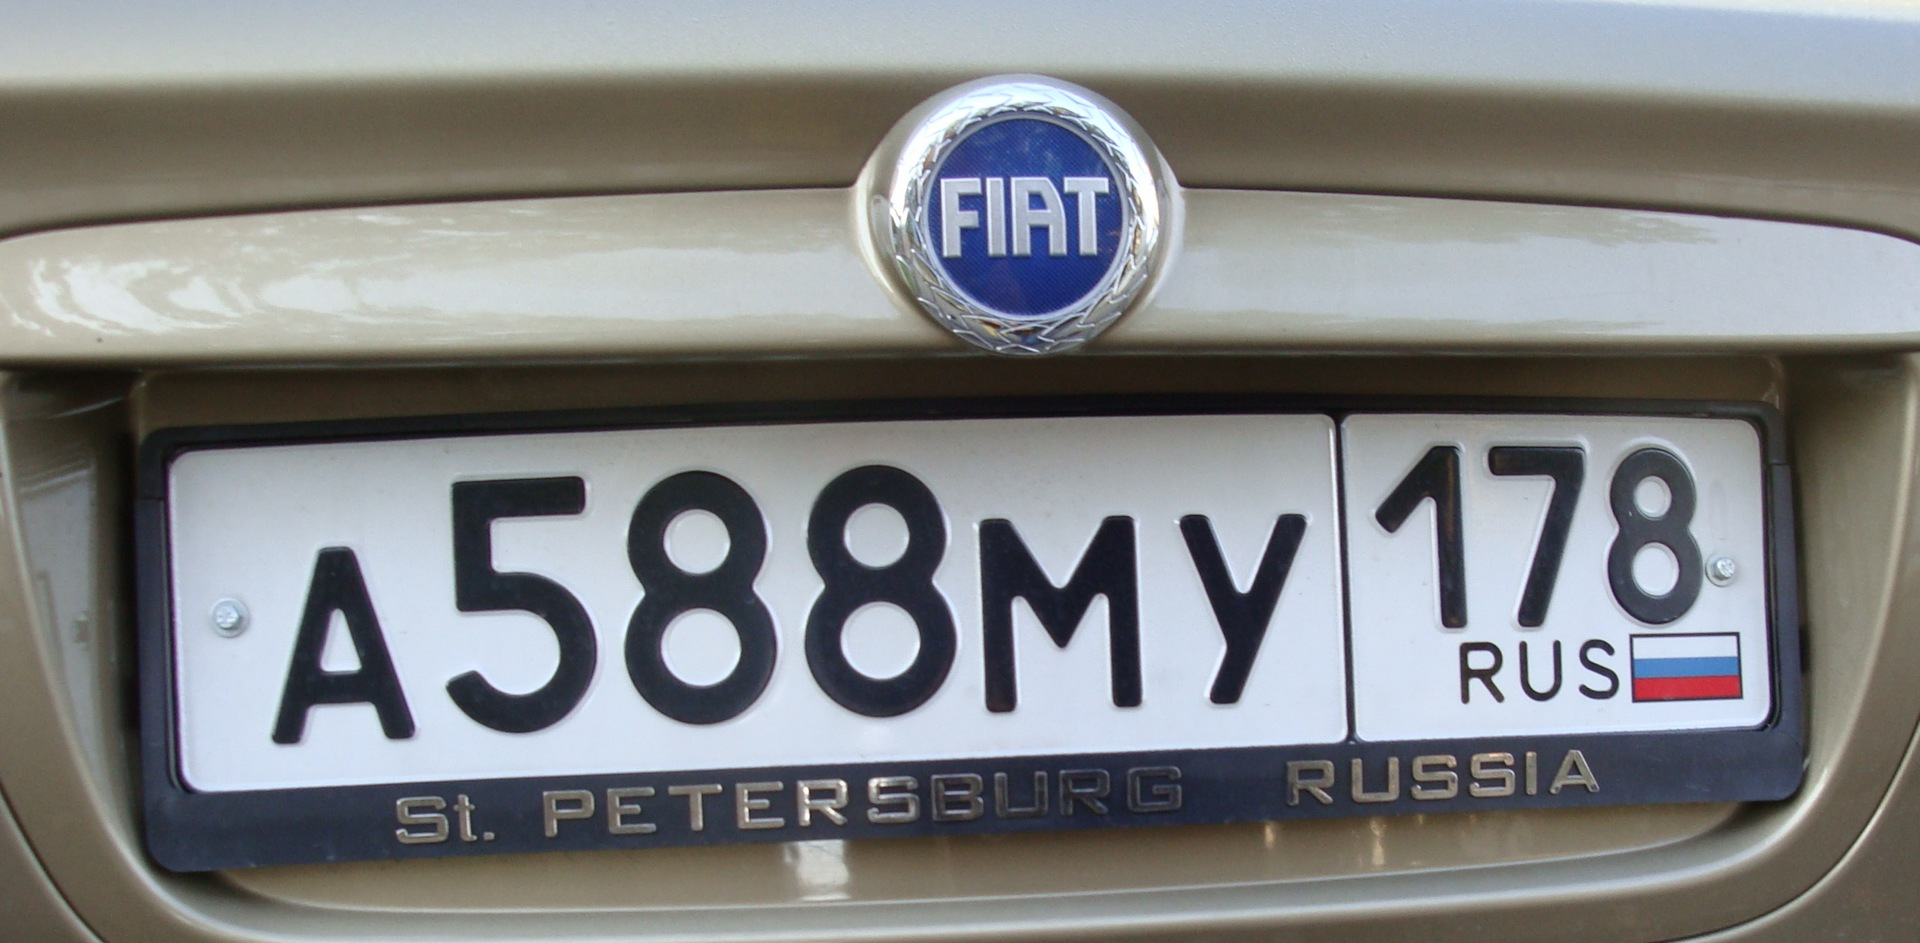number_plate: (166, 395, 1792, 767)
